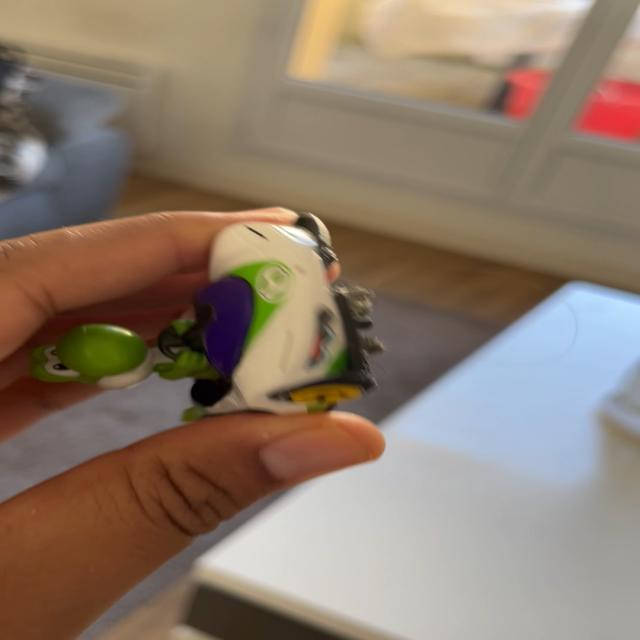yoshi: (16, 198, 398, 451)
